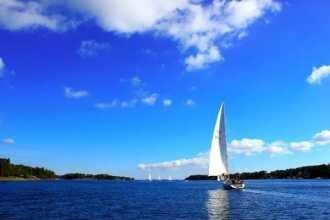fanchuan: (206, 101, 248, 189)
